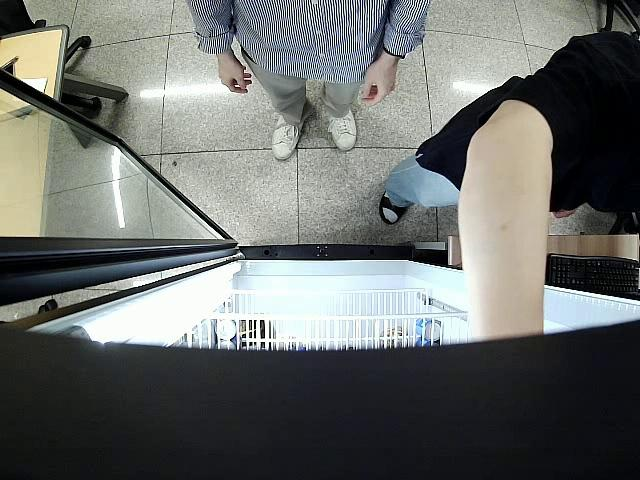00_hand: (360, 65, 393, 107), (220, 62, 252, 94)
